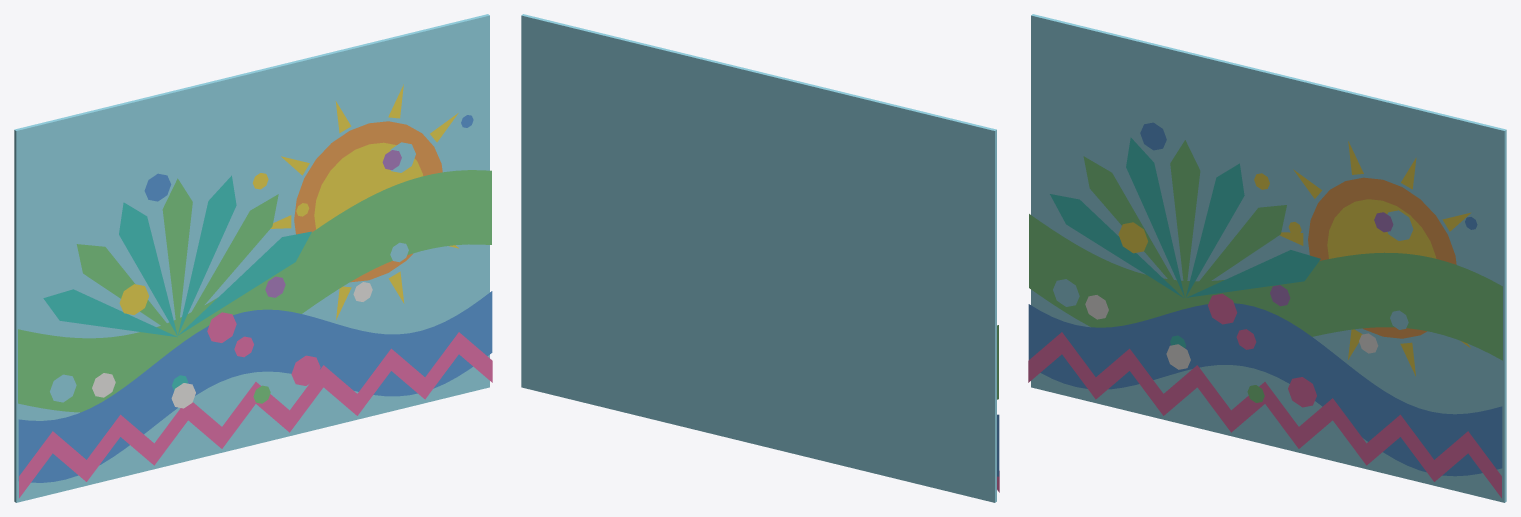
Rendered from fv_mural_c.glb.
The picture shows the model from 3 angles, left to right: view 1: azimuth 30°, elevation 25°; view 2: azimuth 150°, elevation 25°; view 3: azimuth 330°, elevation 25°; orthographic projection.
Parts seen in each view (by area): view 1: fv_mural_c; view 2: fv_mural_c; view 3: fv_mural_c.
Part boxes in pixels (x1,y1,x2,y2): fv_mural_c: (14, 14, 492, 502); fv_mural_c: (521, 14, 999, 502); fv_mural_c: (1028, 14, 1506, 502).
Size of the model in its own units: 4 by 3 by 0.1992.
